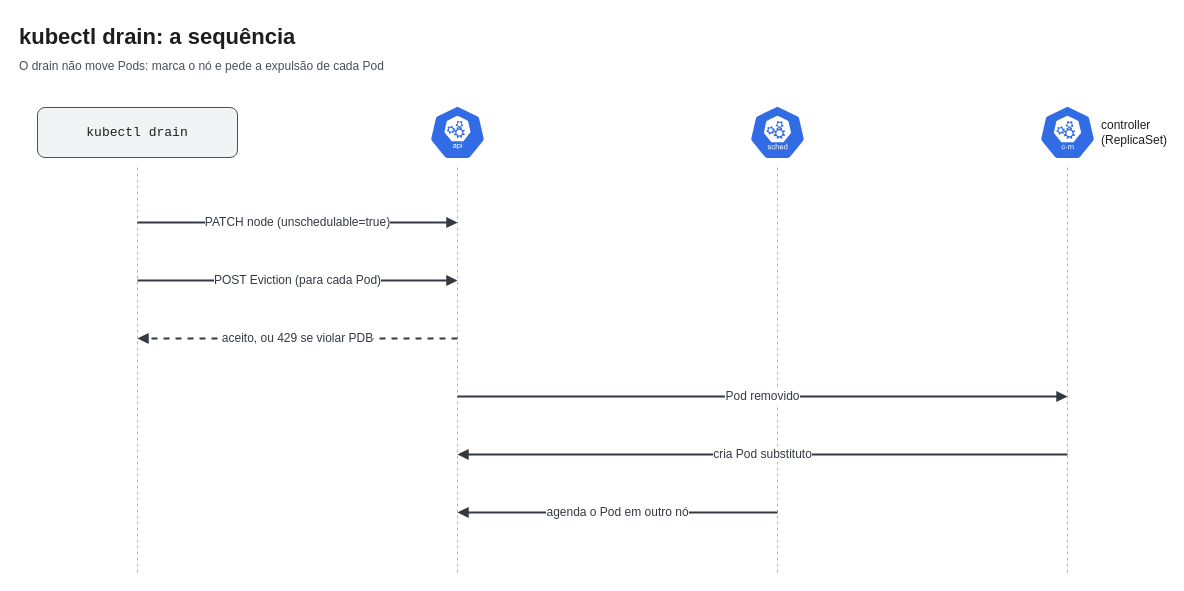
This 1184x591 diagram has some shape labels left out. The shapes that lost their labels are listed below. From the top down, each one's box as (x1, y1, x2, y2) in pixels, then its label:
(428, 104, 486, 160): kube-apiserver
(748, 104, 806, 160): kube-scheduler
